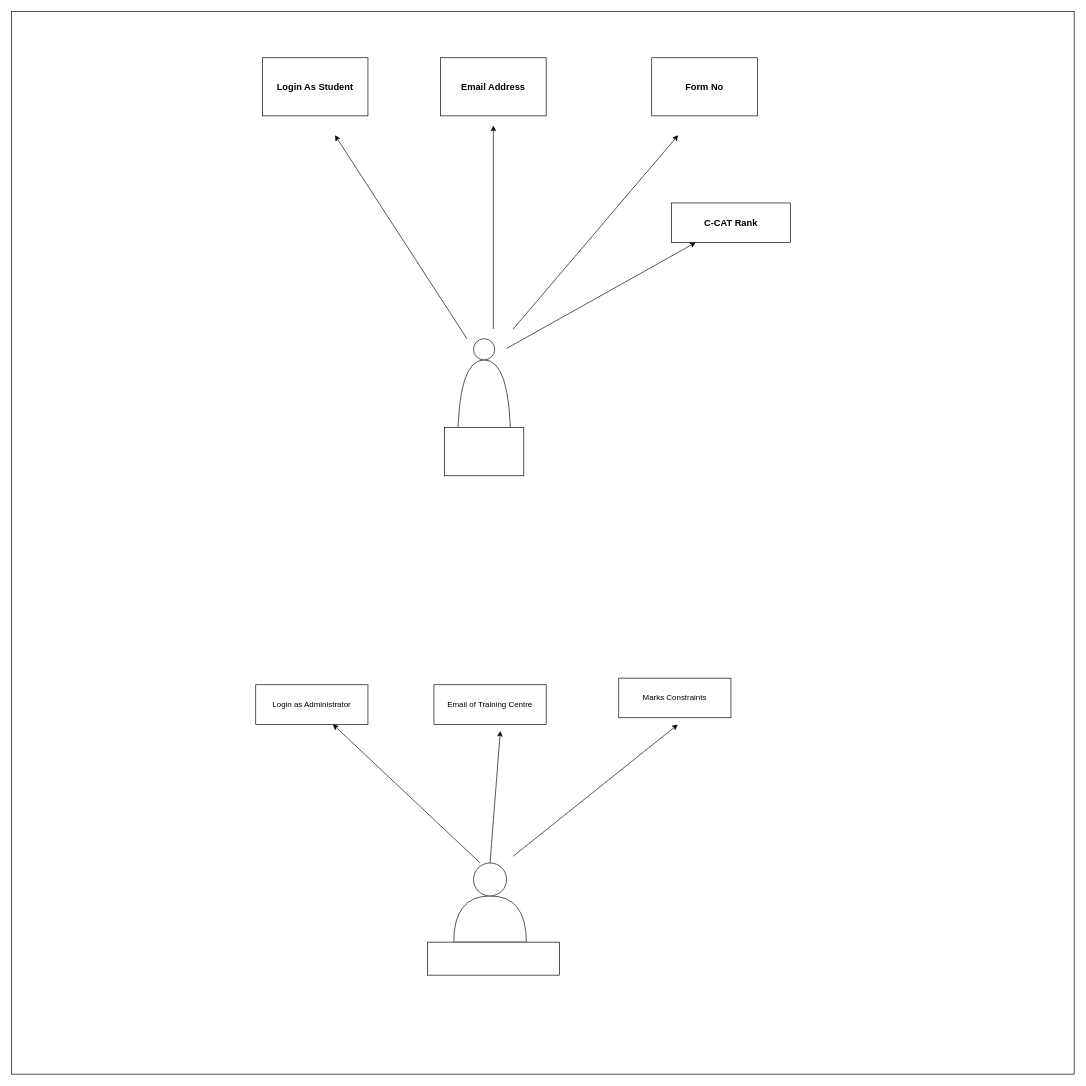
Image size: 1086x1086. Some labels were removed from this diagram. The box of each missing label's shape, as (x1, y1, x2, y2) in pixels:
Admin As User: (427, 941, 559, 975)
User As Student: (444, 427, 524, 476)
